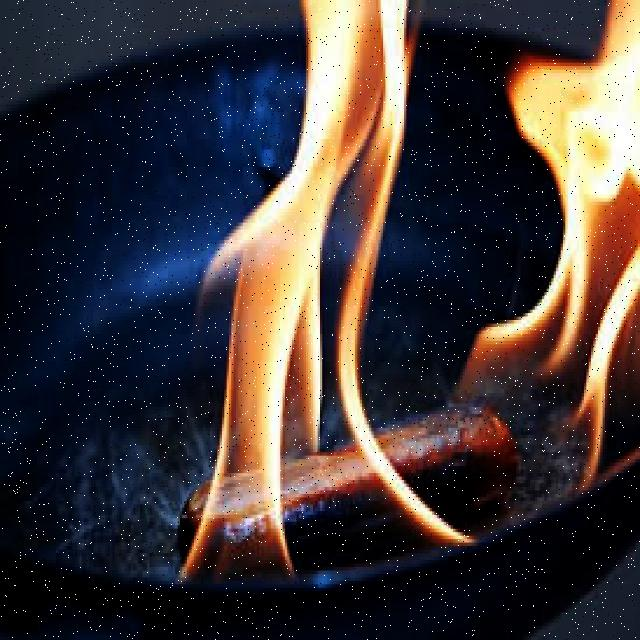fire: (204, 2, 427, 610), (496, 10, 640, 493)
